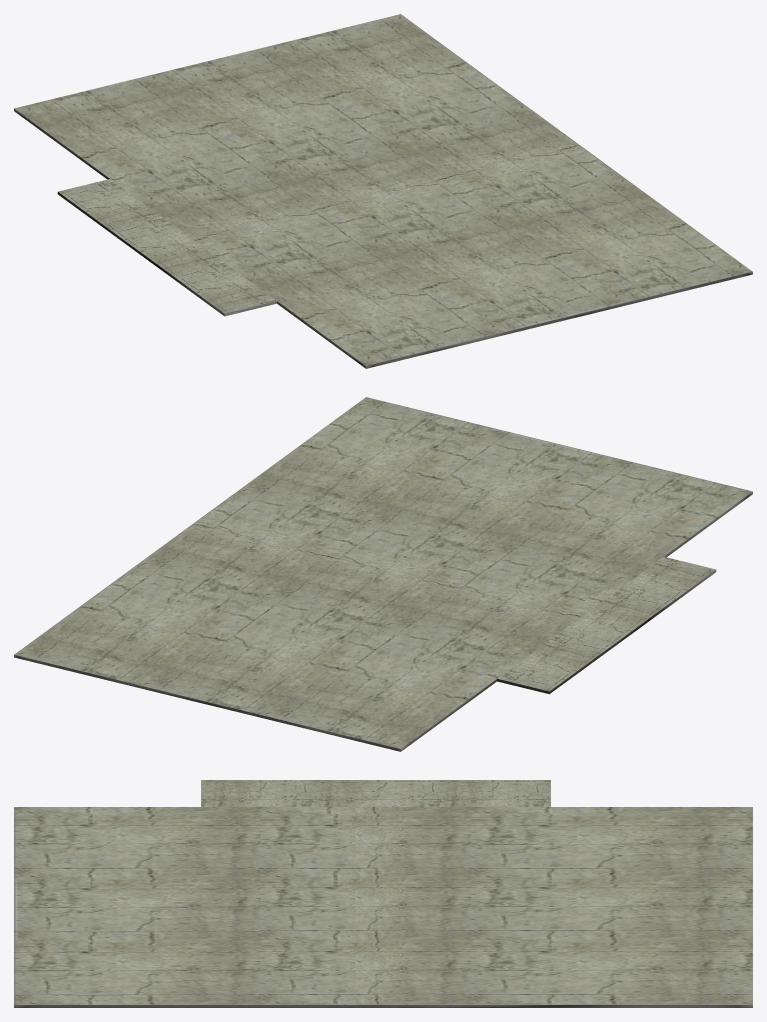
File: Floor.fbx
3 views of the same model, one above another, from view 1: azimuth 30°, elevation 25°; view 2: azimuth 150°, elevation 25°; view 3: azimuth 270°, elevation 25° (orthographic). The views are drawn at different scales.
Parts seen in each view (by area): view 1: JekRunway; view 2: JekRunway; view 3: JekRunway.
Part boxes in pixels (x1,y1,x2,y2): JekRunway: (14, 14, 752, 368); JekRunway: (14, 397, 752, 751); JekRunway: (14, 780, 752, 1007).
Size of the model in its own units: 2584 by 15.32 by 3588.
